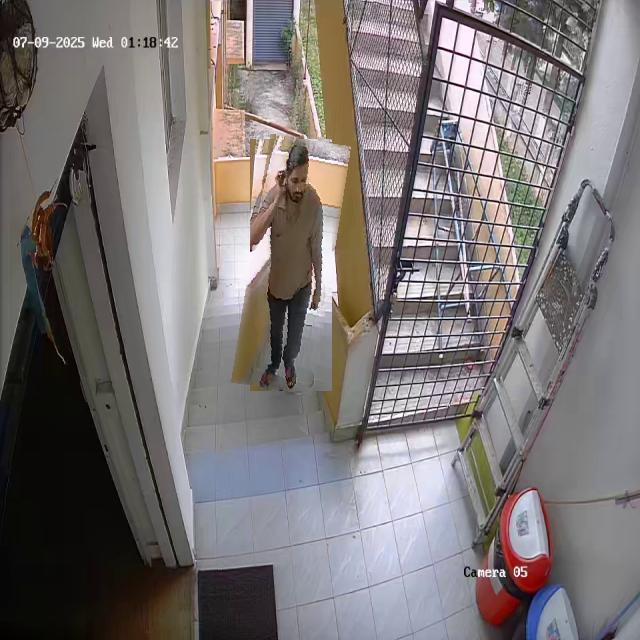person: (241, 137, 341, 393)
